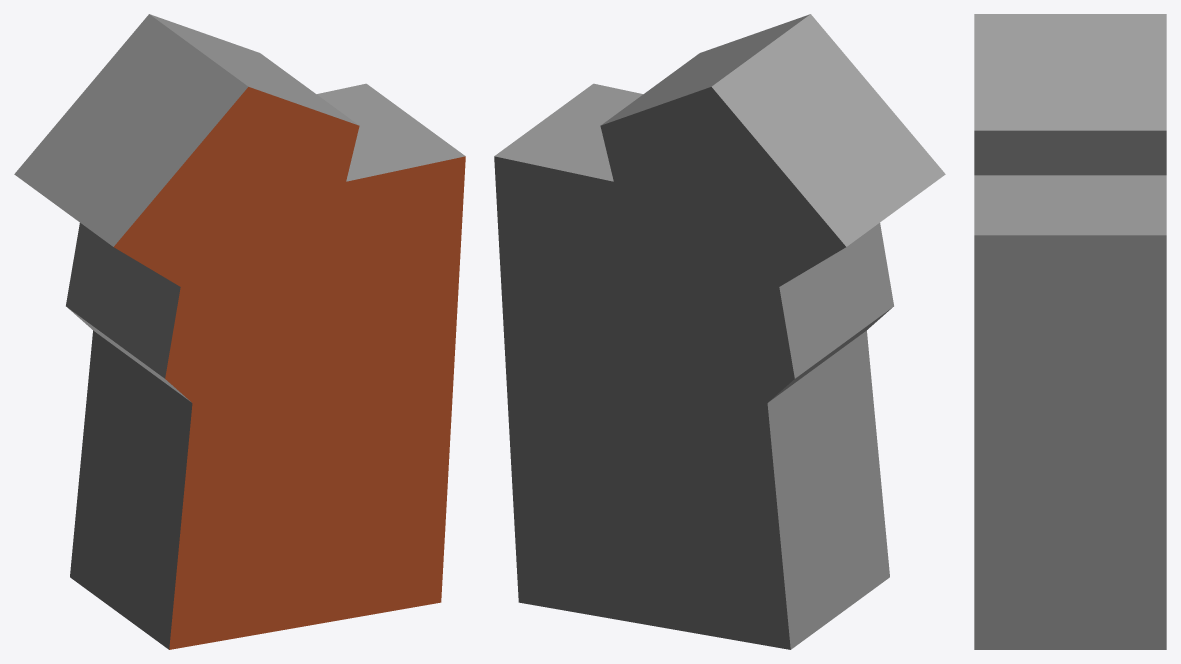
The model's file is construction_2825_assumed_A_Casa_h6m.obj.
3 views of the same model, side by side, from view 1: azimuth 30°, elevation 25°; view 2: azimuth 150°, elevation 25°; view 3: azimuth 270°, elevation 25° (orthographic). The views are drawn at different scales.
Parts seen in each view (by area): view 1: construction_2825_assumed_A_Casa; view 2: construction_2825_assumed_A_Casa; view 3: construction_2825_assumed_A_Casa.
Part boxes in pixels (x1,y1,x2,y2): construction_2825_assumed_A_Casa: [14, 14, 465, 649]; construction_2825_assumed_A_Casa: [494, 14, 945, 649]; construction_2825_assumed_A_Casa: [974, 14, 1166, 649].
Bounding box in the file's own units: 12.28 × 18.75 × 6.
